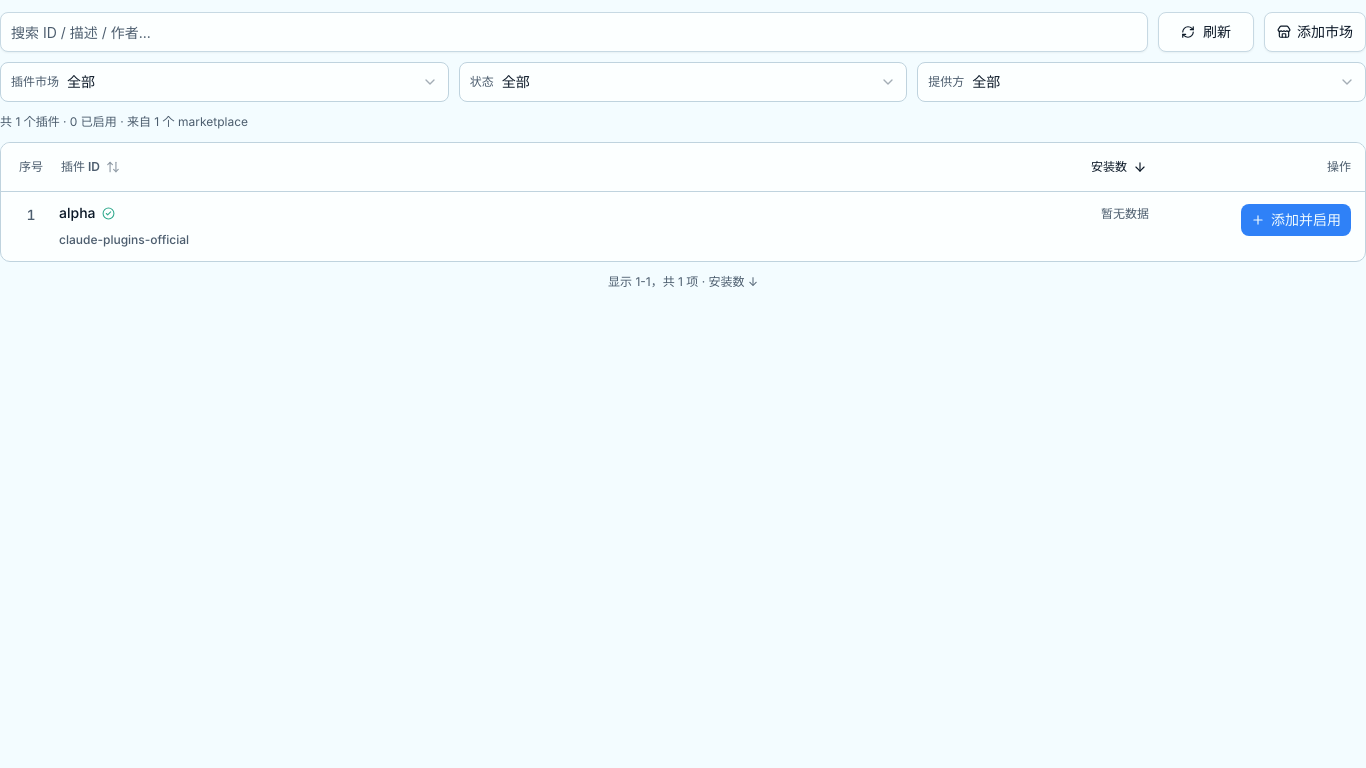
Test: BrowseMarketplaceTab › 快速添加市场：表单只保留仓库输入，不含名称/分支字段
Expected: the text "alpha" is shown, left=59, top=204, right=96, bottom=224
Click the button "添加市场".
click(1315, 32)  # box left=1264, top=12, right=1365, bottom=52
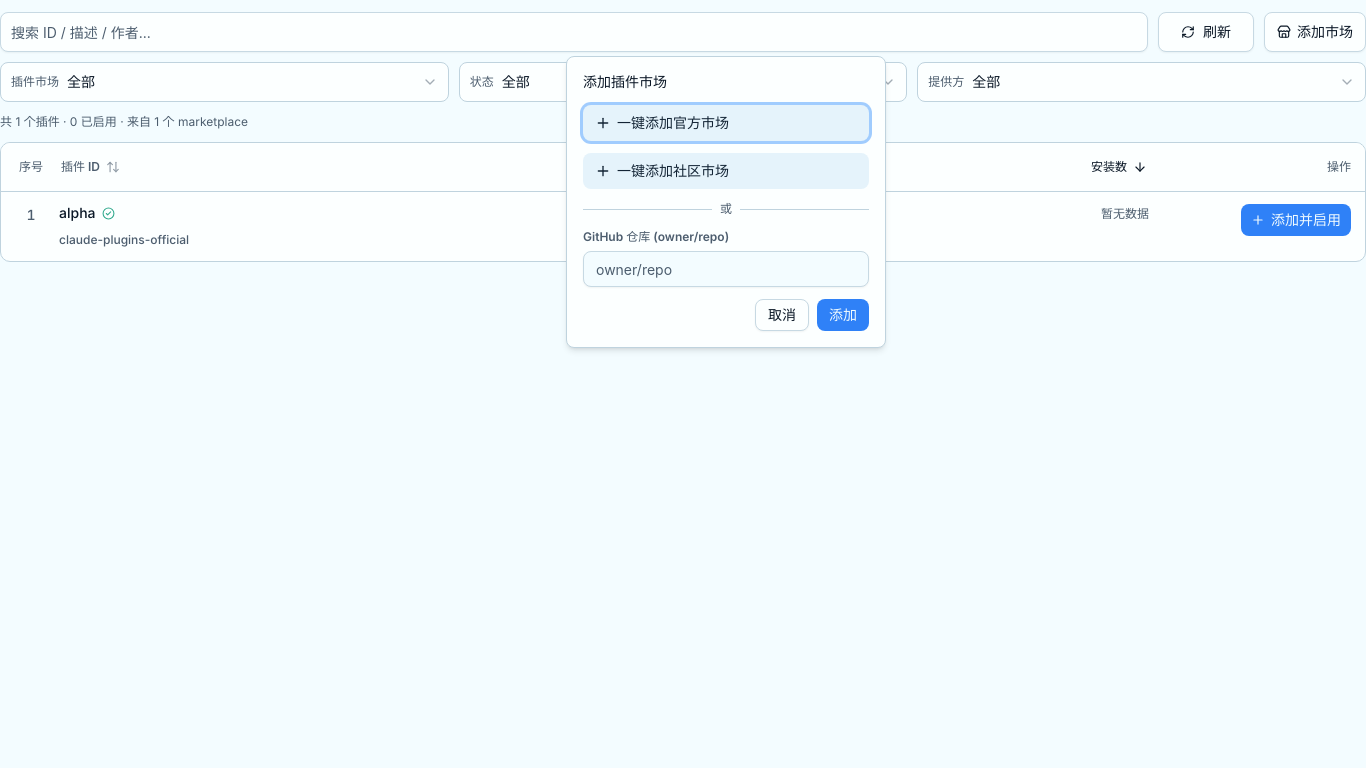
Expected: the field labelled "GitHub 仓库 (owner/repo)" is shown, left=583, top=251, right=869, bottom=287
